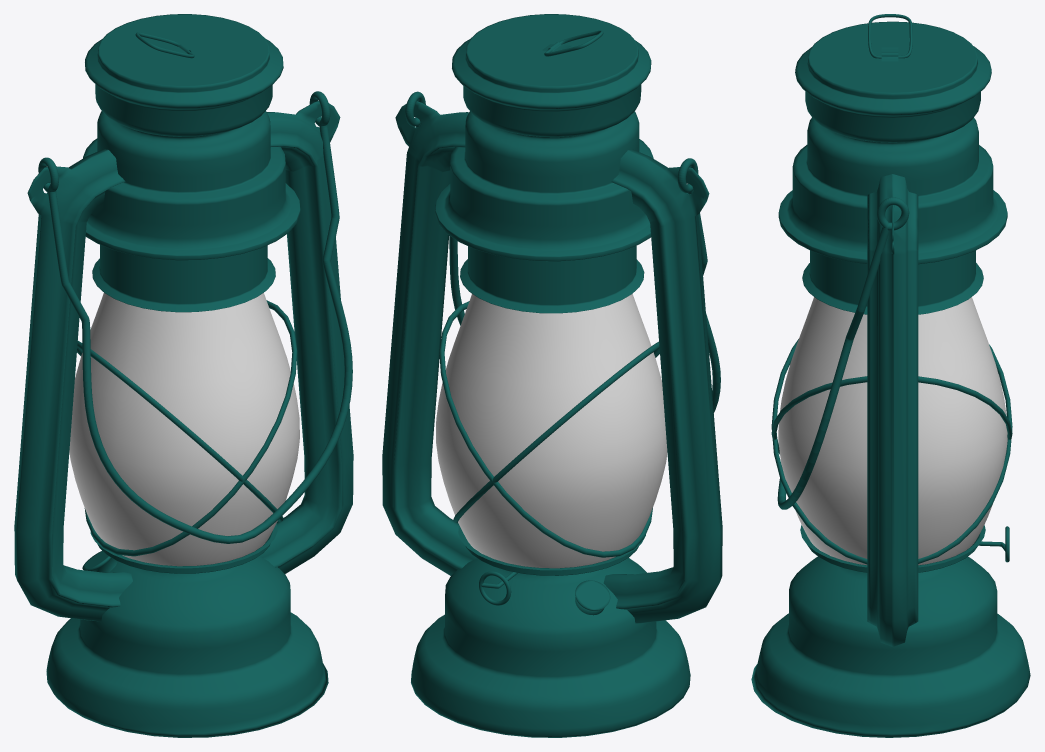
File: decor lamp.fbx
3 views of the same model, side by side, from view 1: azimuth 30°, elevation 25°; view 2: azimuth 150°, elevation 25°; view 3: azimuth 270°, elevation 25° (orthographic).
Visible parts, largest first — view 1: Cylinder.003, Vert.001; view 2: Cylinder.003, Vert.001, BezierCircle.001; view 3: Cylinder.003, Vert.001, BezierCircle.
Boxes of the visible parts, box(x1,y1,x2,y2) form: Cylinder.003: box(14, 14, 353, 737); Vert.001: box(38, 91, 352, 543); Cylinder.003: box(382, 14, 722, 737); Vert.001: box(405, 91, 720, 412); BezierCircle.001: box(479, 571, 517, 605); Cylinder.003: box(751, 21, 1030, 737); Vert.001: box(777, 197, 909, 509); BezierCircle: box(868, 14, 912, 58).
Size of the model in its own units: 4021 by 7481 by 2941.
